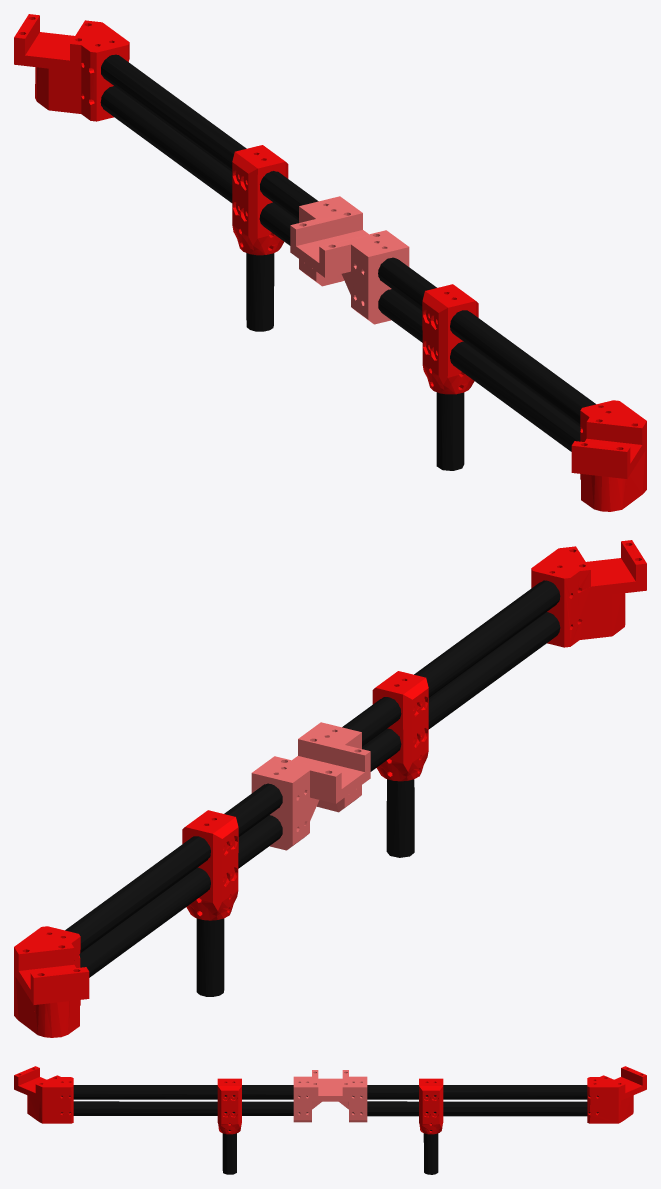
The model's file is end_effector_fang.dae.
3 views of the same model, one above another, from view 1: azimuth 30°, elevation 25°; view 2: azimuth 150°, elevation 25°; view 3: azimuth 270°, elevation 25° (orthographic). The views are drawn at different scales.
Visible parts, largest first — view 1: Shape_IndexedFaceSet.006; view 2: Shape_IndexedFaceSet.006; view 3: Shape_IndexedFaceSet.006.
Part boxes in pixels (x1,y1,x2,y2): Shape_IndexedFaceSet.006: (14,14,646,511); Shape_IndexedFaceSet.006: (14,540,646,1037); Shape_IndexedFaceSet.006: (14,1066,646,1174).
Size of the model in its own units: 0.0414 by 0.519 by 0.081.
